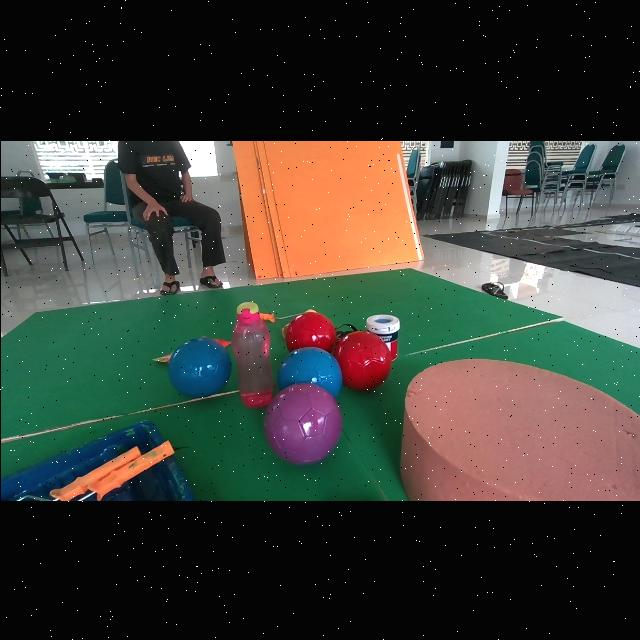B: (167, 336, 230, 397), (276, 346, 342, 396), (284, 310, 336, 352)
P: (263, 383, 341, 464)
